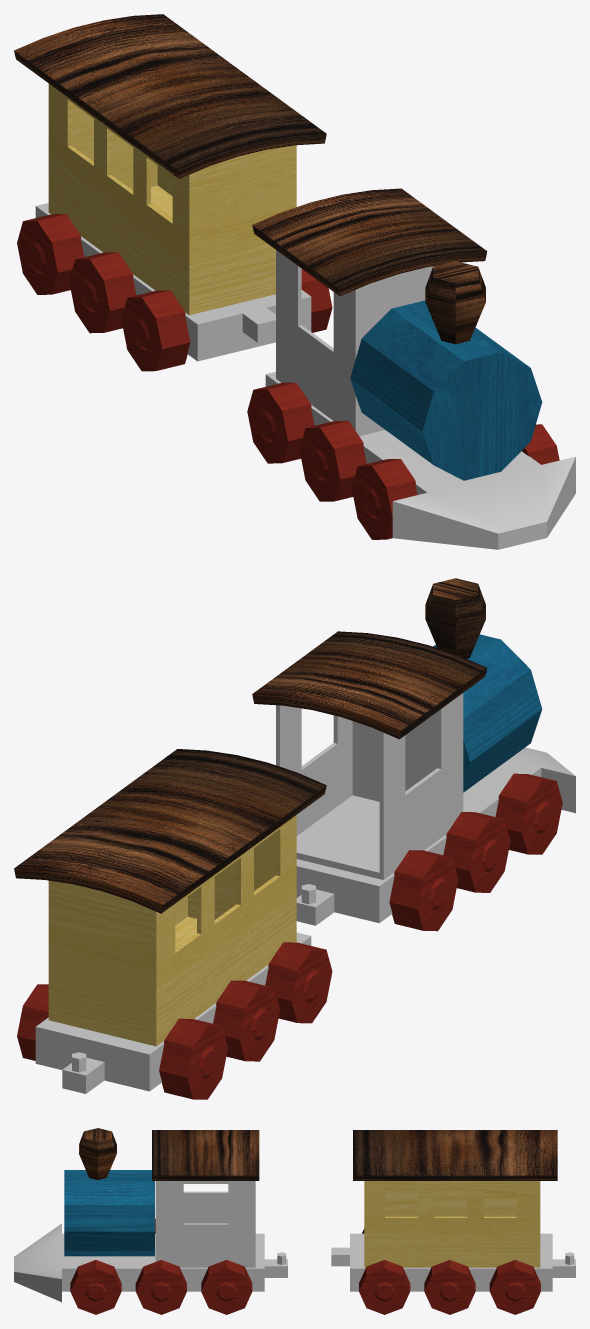
Rendered from train_textured_colored_ver1.fbx.
3 views of the same model, one above another, from view 1: azimuth 30°, elevation 25°; view 2: azimuth 150°, elevation 25°; view 3: azimuth 270°, elevation 25° (orthographic). The views are drawn at different scales.
Parts seen in each view (by area): view 1: pCube10, pCube11, pCylinder7, pCube5, pCylinder10, pCube4, pCylinder11, pCylinder15, pCylinder6, pCylinder5, pCylinder17, pCylinder16 (+4 smaller); view 2: pCube10, pCube11, pCube4, pCube5, pCylinder10, pCylinder7, pCylinder11, pCylinder6, pCylinder17, pCylinder16, pCylinder15, pCylinder5 (+3 smaller); view 3: pCube10, pCube11, pCube4, pCylinder7, pCylinder10, pCube5, pCylinder11, pCylinder1, pCylinder13, pCylinder2, pCylinder12, pCylinder14 (+2 smaller).
Part boxes in pixels (x1,y1,x2,y2): pCube10: [48, 83, 296, 315]; pCube11: [14, 14, 326, 178]; pCylinder7: [350, 300, 542, 480]; pCube5: [252, 188, 487, 296]; pCylinder10: [265, 372, 575, 549]; pCube4: [276, 250, 463, 436]; pCylinder11: [35, 203, 311, 361]; pCylinder15: [121, 290, 190, 371]; pCylinder6: [247, 382, 314, 463]; pCylinder5: [299, 420, 366, 501]; pCylinder17: [17, 214, 83, 294]; pCylinder16: [69, 252, 136, 333]; pCube10: [48, 815, 296, 1046]; pCube11: [14, 749, 326, 913]; pCube4: [276, 693, 463, 879]; pCube5: [252, 631, 486, 739]; pCylinder10: [296, 747, 575, 925]; pCylinder7: [433, 634, 542, 792]; pCylinder11: [35, 932, 311, 1093]; pCylinder6: [389, 850, 458, 931]; pCylinder17: [159, 1018, 227, 1099]; pCylinder16: [213, 980, 280, 1061]; pCylinder15: [265, 942, 332, 1023]; pCylinder5: [443, 812, 510, 892]; pCube10: [364, 1181, 540, 1267]; pCube11: [353, 1130, 557, 1180]; pCube4: [155, 1181, 255, 1267]; pCylinder7: [64, 1170, 154, 1256]; pCylinder10: [14, 1223, 287, 1302]; pCube5: [152, 1130, 259, 1180]; pCylinder11: [331, 1233, 575, 1291]; pCylinder1: [70, 1260, 121, 1314]; pCylinder13: [424, 1260, 475, 1314]; pCylinder2: [135, 1260, 186, 1314]; pCylinder12: [359, 1260, 410, 1314]; pCylinder14: [489, 1260, 540, 1314].
Bounding box in the file's own units: 5.18 × 6.64 × 21.97.
